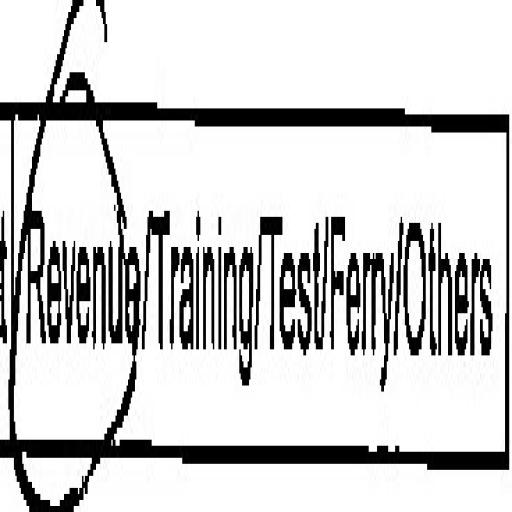check: (0, 4, 143, 512)
